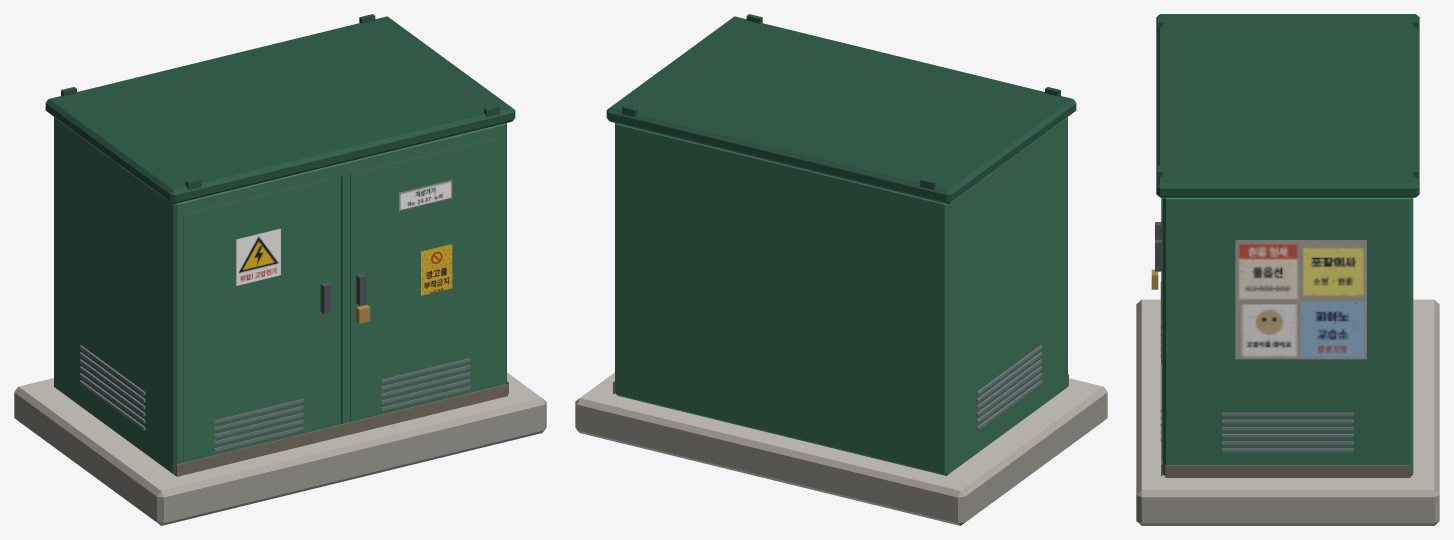
The model's file is SC_Util_Ground_Transformer.gltf.
The picture shows the model from 3 angles, left to right: view 1: azimuth 30°, elevation 25°; view 2: azimuth 150°, elevation 25°; view 3: azimuth 270°, elevation 25°; orthographic projection. The views are drawn at different scales.
Visible parts, largest first — view 1: SC_Util_Ground_Transformer; view 2: SC_Util_Ground_Transformer; view 3: SC_Util_Ground_Transformer.
Part boxes in pixels (x1,y1,x2,y2): SC_Util_Ground_Transformer: (14,14,546,525); SC_Util_Ground_Transformer: (575,14,1107,525); SC_Util_Ground_Transformer: (1136,14,1439,525).
Size of the model in its own units: 1.75 by 1.41 by 1.15.
Materials: 2 (2 with a texture image).
